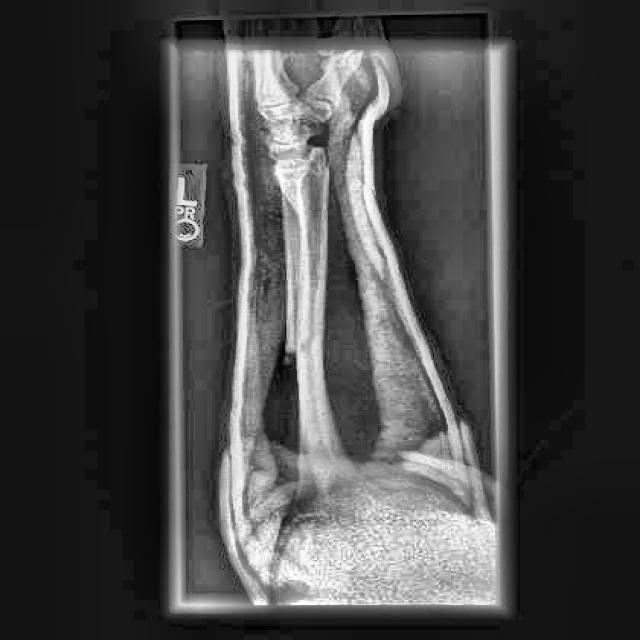forearm fracture: (273, 301, 346, 398)
